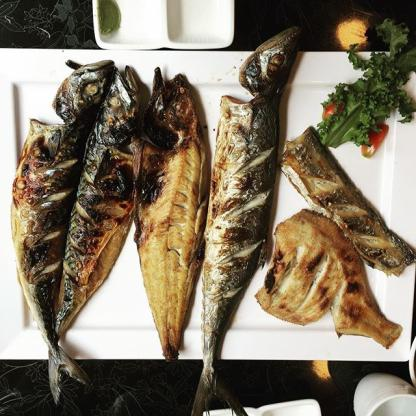Peixe: (0, 29, 293, 393)
